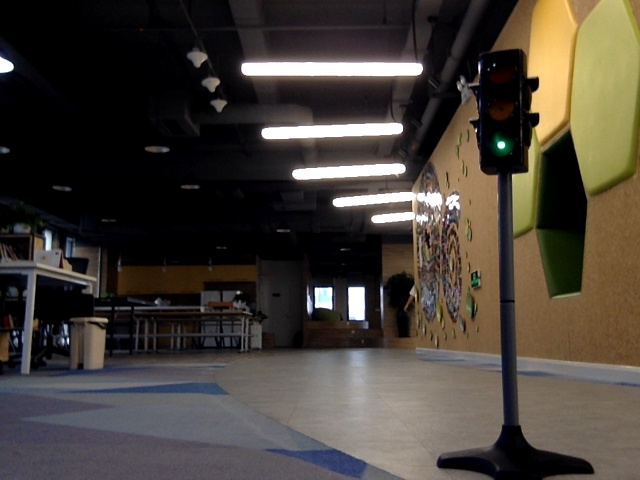green: (480, 57, 524, 165)
